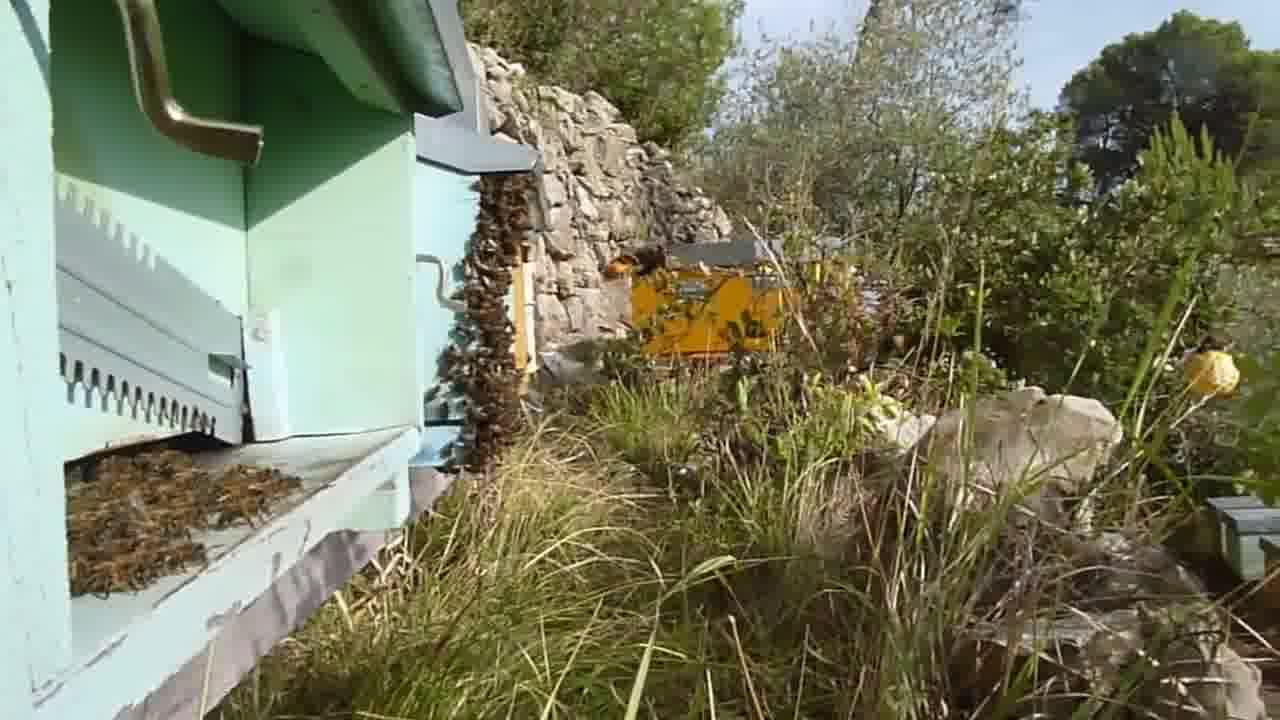bee: (68, 454, 305, 526), (434, 346, 532, 454), (448, 255, 530, 340), (471, 173, 545, 254), (61, 524, 132, 596), (142, 527, 224, 578)
hornet: (599, 234, 674, 295)
